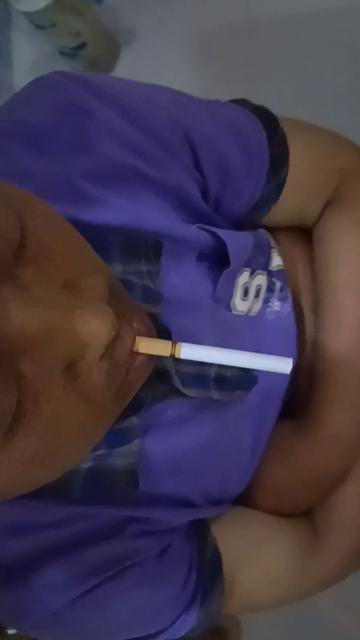Smoking: (135, 337, 295, 375)
